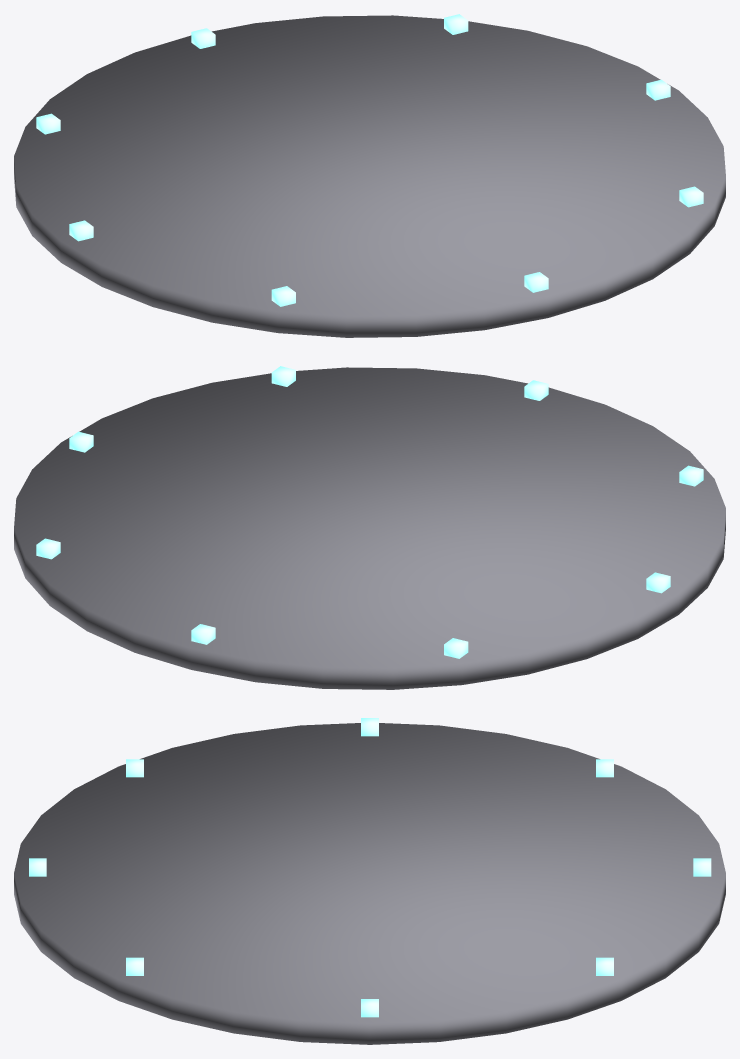
File: landing_pad.glb
The picture shows the model from 3 angles, top to bottom: view 1: azimuth 30°, elevation 25°; view 2: azimuth 150°, elevation 25°; view 3: azimuth 270°, elevation 25°; orthographic projection.
Parts seen in each view (by area): view 1: landing_pad; view 2: landing_pad; view 3: landing_pad.
Boxes of the visible parts, bbox=[...] form: landing_pad: bbox=[14, 14, 725, 337]; landing_pad: bbox=[14, 366, 725, 689]; landing_pad: bbox=[14, 718, 725, 1044].
Bounding box in the file's own units: 12 × 0.6 × 12.
